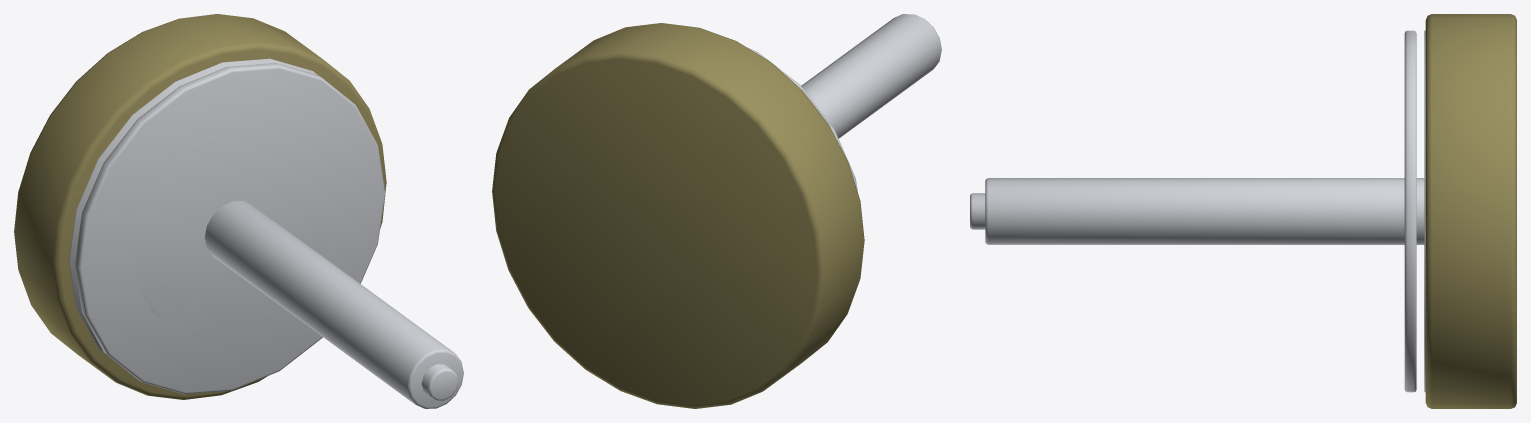
Rendered from dct_clutchpack_assembly.glb.
The picture shows the model from 3 angles, left to right: view 1: azimuth 30°, elevation 25°; view 2: azimuth 150°, elevation 25°; view 3: azimuth 270°, elevation 25°; orthographic projection. The views are drawn at different scales.
Visible parts, largest first — view 1: DCT_ClutchPack_Assembly; view 2: DCT_ClutchPack_Assembly; view 3: DCT_ClutchPack_Assembly.
Part boxes in pixels (<box>): DCT_ClutchPack_Assembly: <box>14,14,463,408</box>; DCT_ClutchPack_Assembly: <box>492,14,941,408</box>; DCT_ClutchPack_Assembly: <box>970,14,1516,408</box>.
Bounding box in the file's own units: 0.26 × 0.26 × 0.36.
